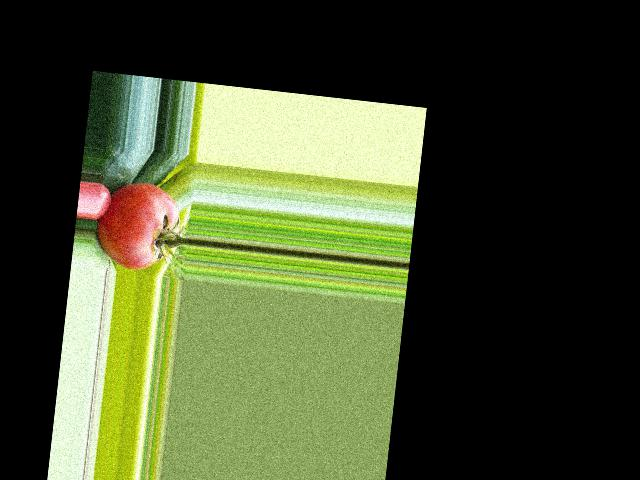tomato: (92, 178, 182, 273)
